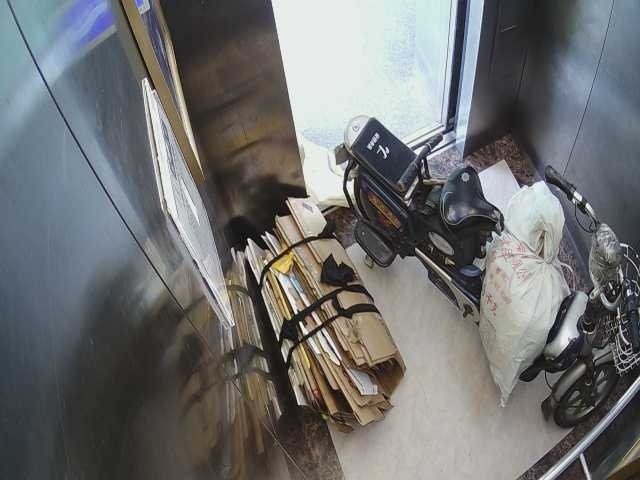emotor: (337, 121, 640, 412)
